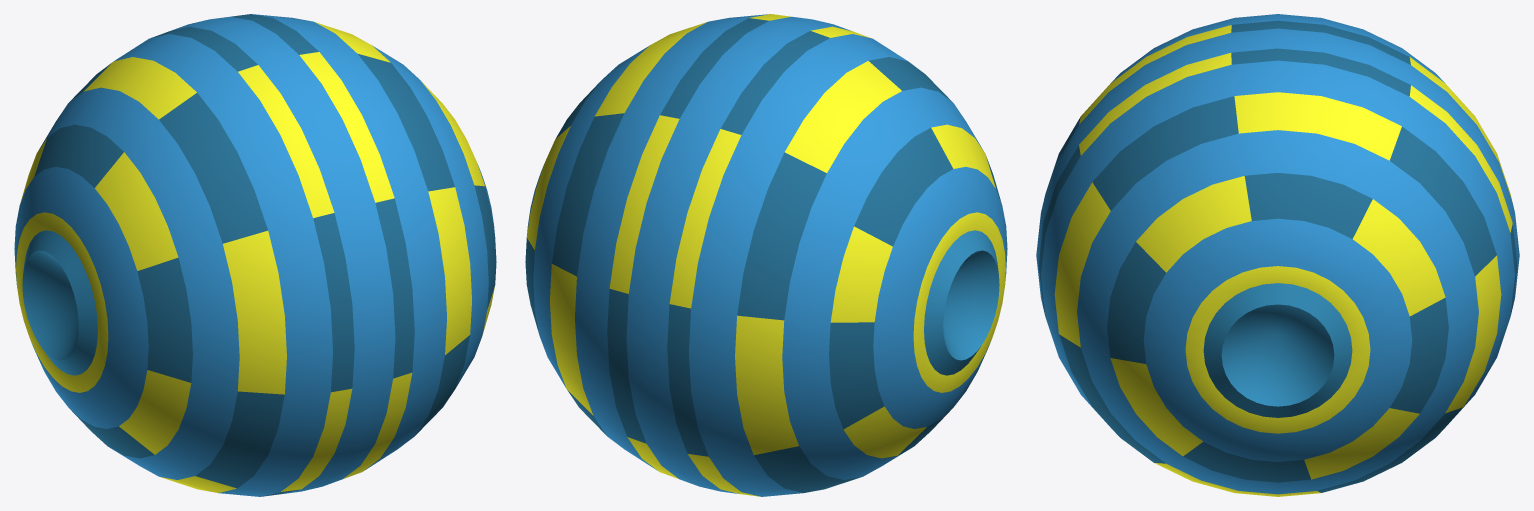
File: ball_blueyellow.fbx
3 renders of one model, left to right at view 1: azimuth 30°, elevation 25°; view 2: azimuth 150°, elevation 25°; view 3: azimuth 270°, elevation 25°, orthographic.
Parts seen in each view (by area): view 1: Coloured Ball 2; view 2: Coloured Ball 2; view 3: Coloured Ball 2.
Part boxes in pixels (x1,y1,x2,y2): Coloured Ball 2: [14, 14, 496, 496]; Coloured Ball 2: [525, 14, 1007, 496]; Coloured Ball 2: [1036, 14, 1519, 496].
Bounding box in the file's own units: 43.26 × 44.16 × 44.16.
